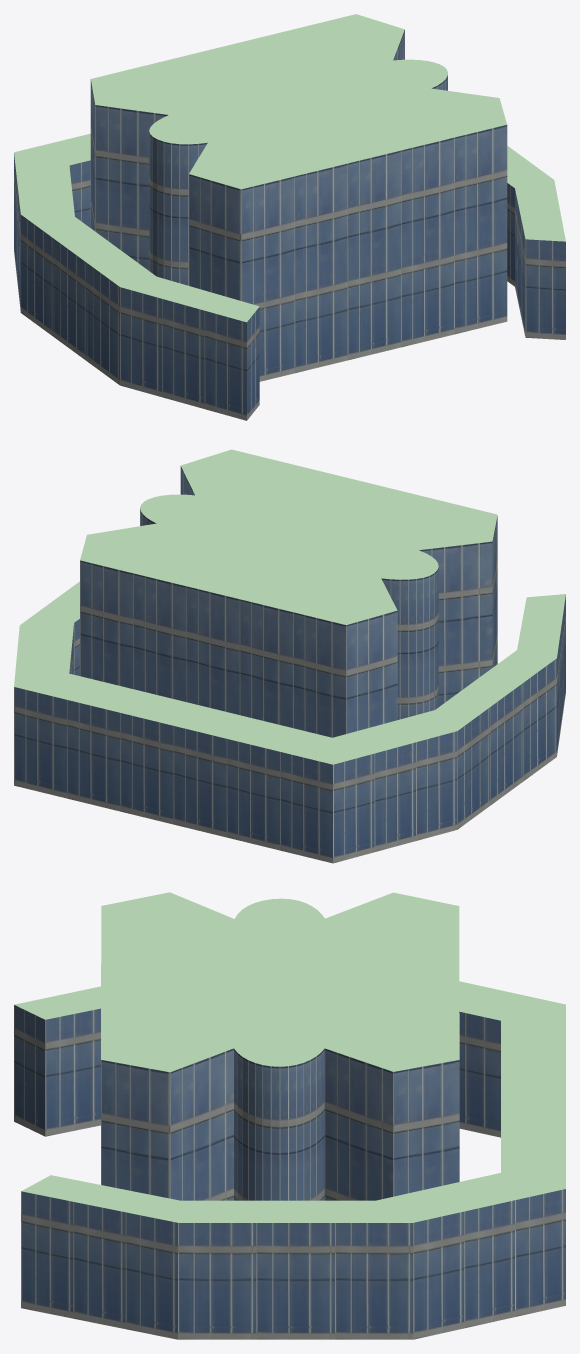
File: daxueshenghuodongzhongxin.fbx
3 views of the same model, one above another, from view 1: azimuth 30°, elevation 25°; view 2: azimuth 150°, elevation 25°; view 3: azimuth 270°, elevation 25° (orthographic). The views are drawn at different scales.
Parts seen in each view (by area): view 1: CityEngineMaterial_2_m, CityEngineMaterial_m; view 2: CityEngineMaterial_2_m, CityEngineMaterial_m; view 3: CityEngineMaterial_2_m, CityEngineMaterial_m.
Boxes of the visible parts, x1,y1,x2,y2 form: CityEngineMaterial_2_m: (14,30,565,420); CityEngineMaterial_m: (14,14,565,322); CityEngineMaterial_2_m: (14,466,565,863); CityEngineMaterial_m: (14,449,565,764); CityEngineMaterial_2_m: (14,1005,565,1339); CityEngineMaterial_m: (14,892,565,1222).
Size of the model in its own units: 46.27 by 20 by 42.79.
